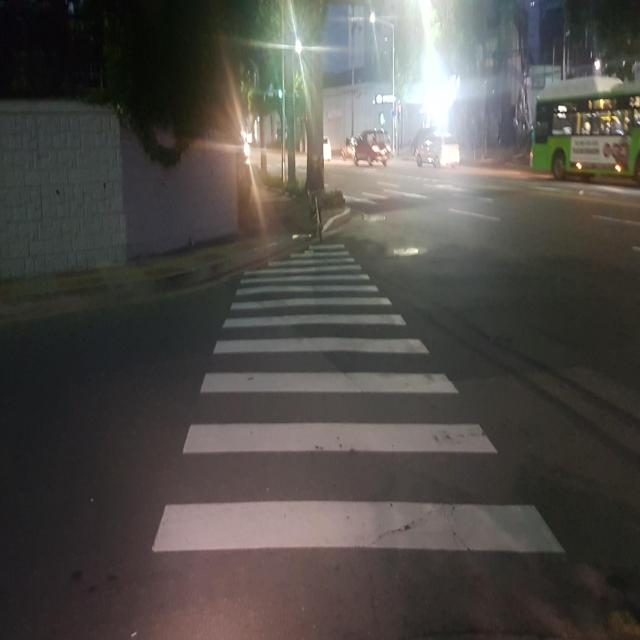횡단보도: (150, 240, 568, 557)
